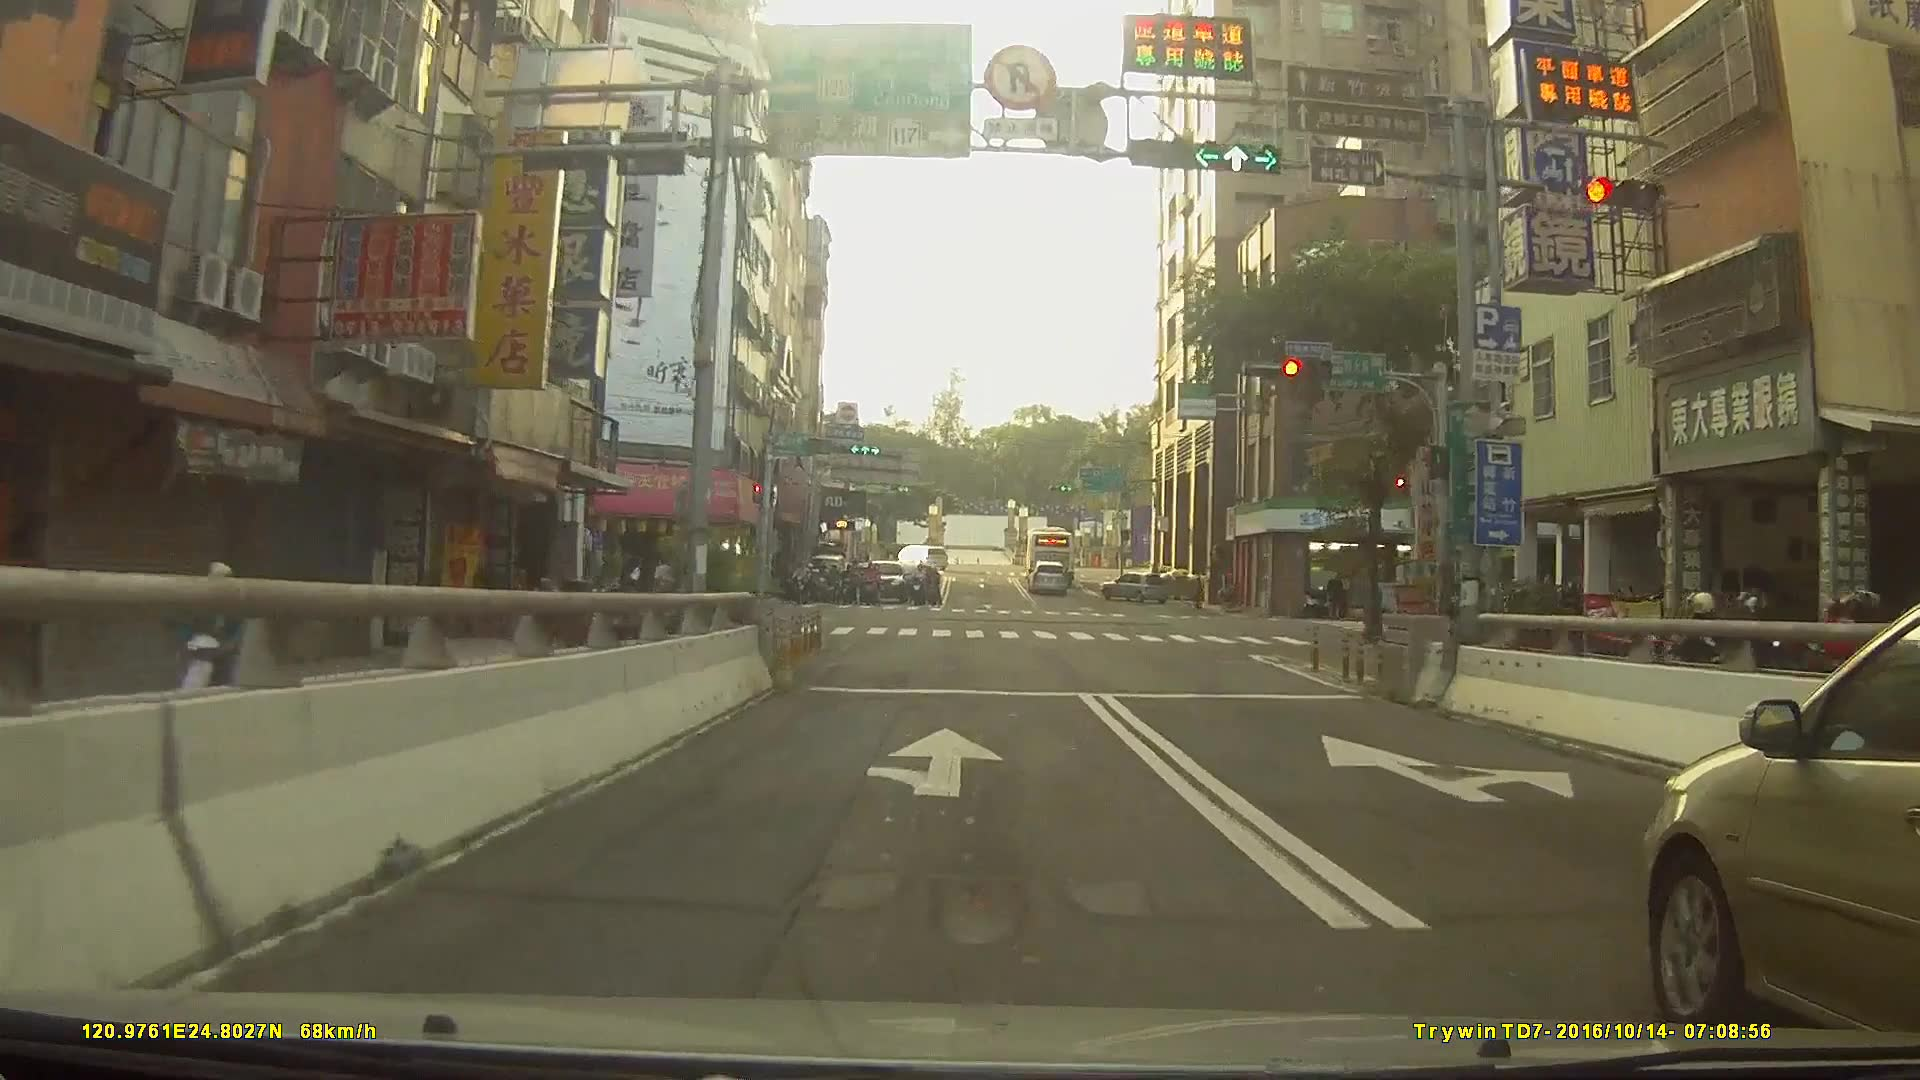pedestrian: (1325, 568, 1346, 622)
rider: (175, 560, 258, 746)
vehicle: (1643, 597, 1920, 1043), (1023, 528, 1076, 577), (1099, 570, 1173, 604), (860, 561, 907, 605), (1028, 561, 1069, 597), (895, 541, 947, 568)
